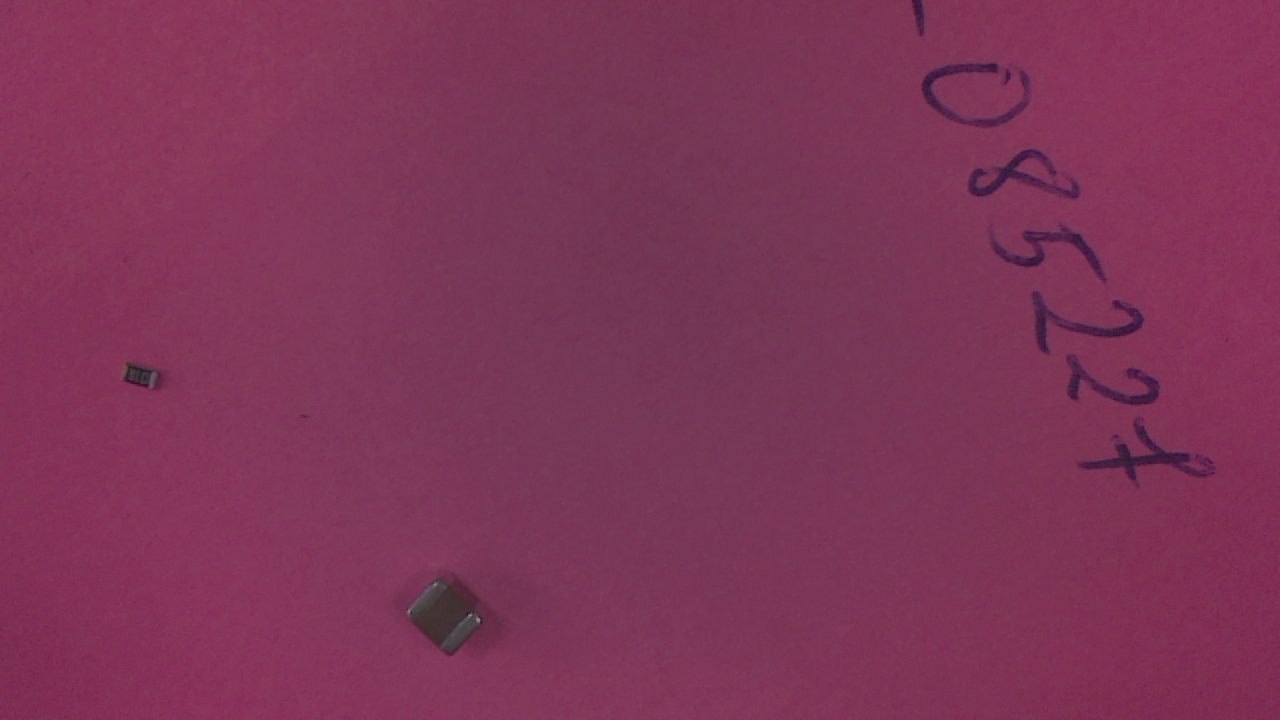Condensator: (408, 582, 491, 665)
Resistor: (124, 366, 167, 397)
